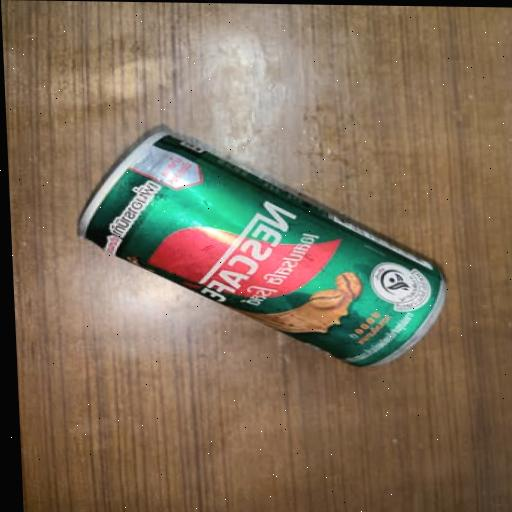canned: (64, 119, 467, 379)
